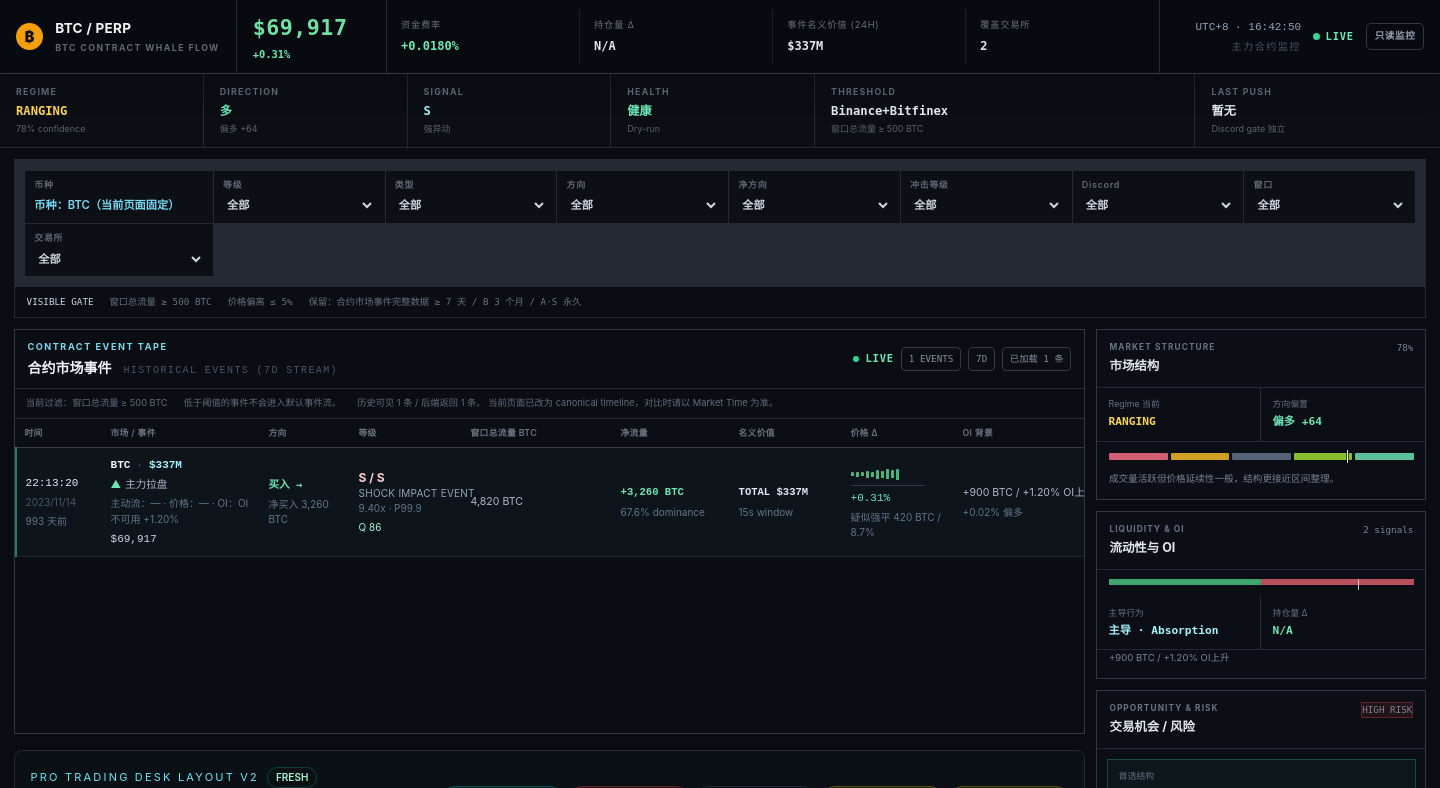
ContractWhaleMonitor › shows a spot-only explanation when coinbase is selected in contract history
Expected: the text "主力合约监控" is shown, [1232,40,1301,52]
Select "Coinbase" in the dropdown labelled "交易所": (119, 259) [34,251,204,267]
(page scrolled)
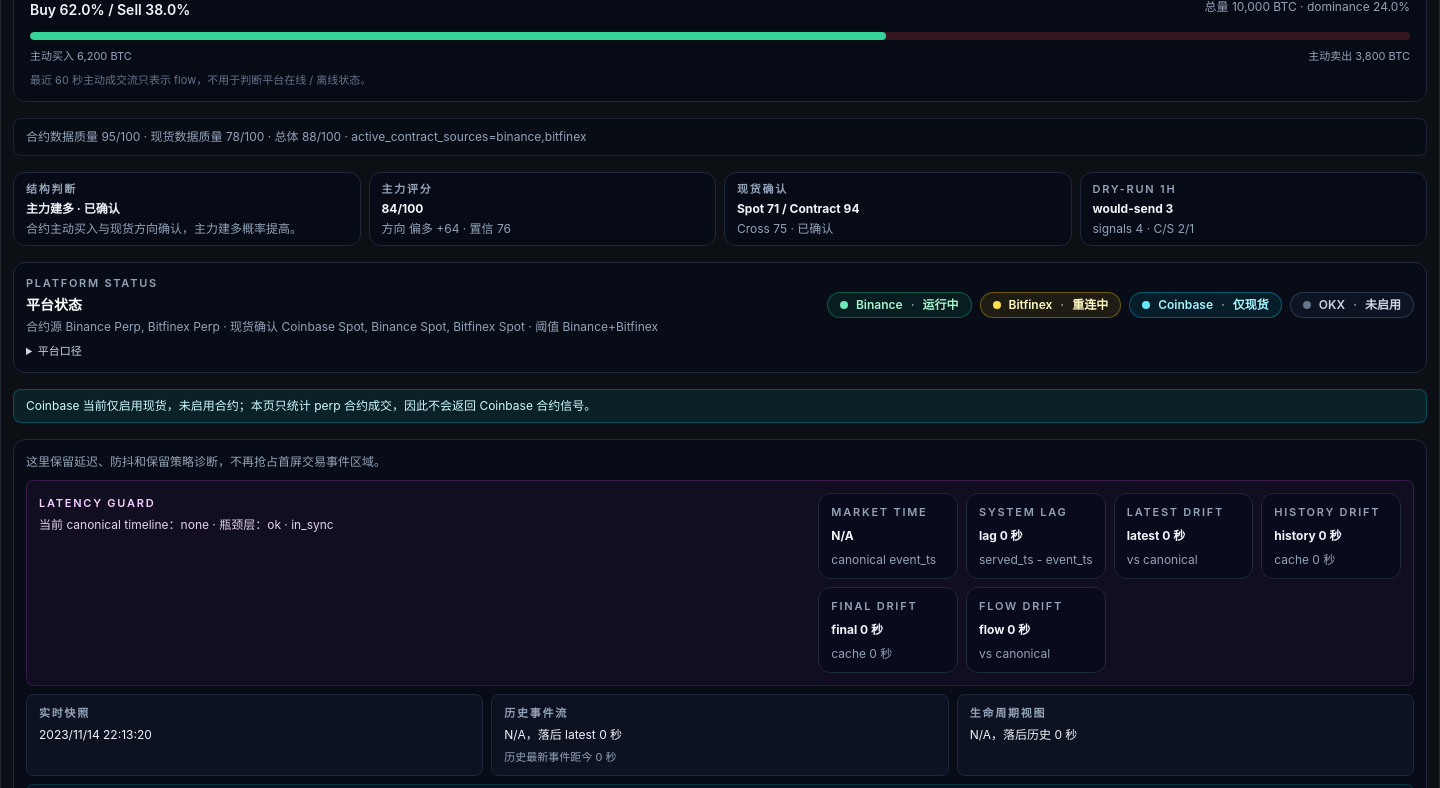
Expected: the text "Coinbase 当前仅启用现货，未启用合约；本页只统计 perp 合约成交，因此不会返回 Coinbase 合约信号。" is shown, [13,389,1427,423]
